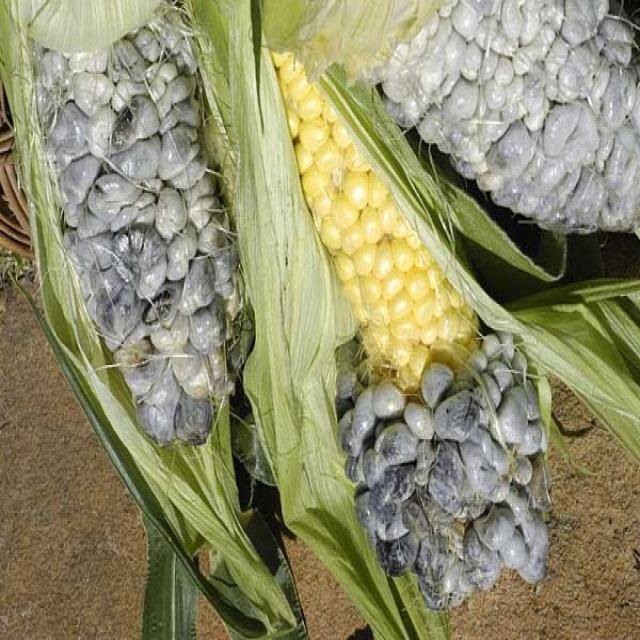Leaf_Scald: (0, 0, 262, 459), (303, 314, 600, 621), (321, 2, 640, 274)
